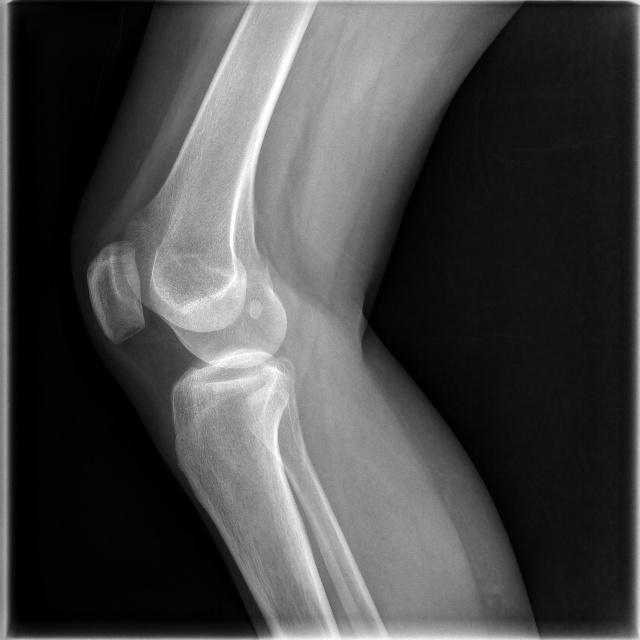Knee: (81, 228, 295, 447)
